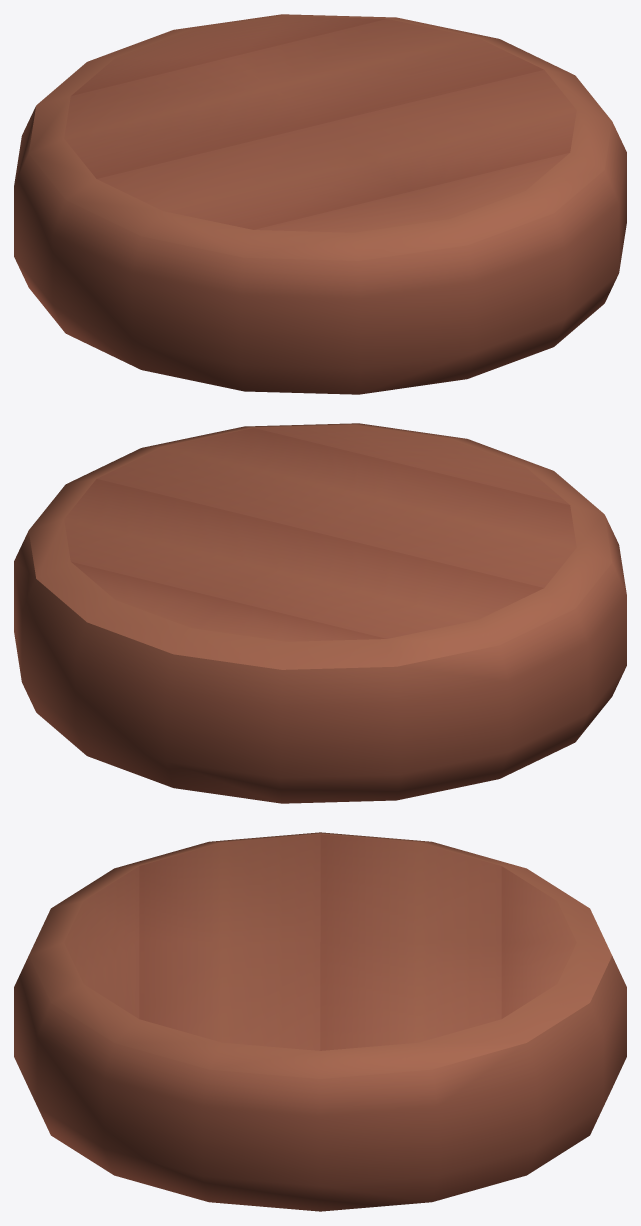
The model's file is Food Burger.glb.
3 renders of one model, top to bottom at view 1: azimuth 30°, elevation 25°; view 2: azimuth 150°, elevation 25°; view 3: azimuth 270°, elevation 25°, orthographic.
Parts seen in each view (by area): view 1: food_ingredient_burger_cooked; view 2: food_ingredient_burger_cooked; view 3: food_ingredient_burger_cooked.
Boxes of the visible parts, x1=… form: food_ingredient_burger_cooked: x1=14, y1=14, x2=626, y2=394; food_ingredient_burger_cooked: x1=14, y1=423, x2=626, y2=803; food_ingredient_burger_cooked: x1=14, y1=832, x2=626, y2=1211.
Bounding box in the file's own units: 0.7 × 0.2 × 0.7.
1 material, 1 textured.
